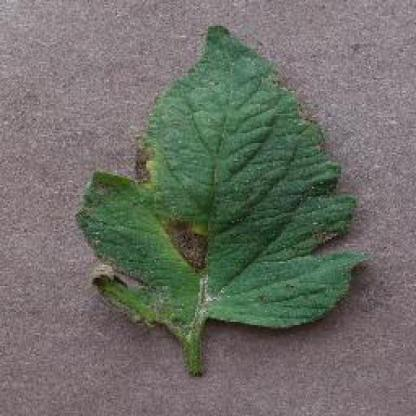Strawberry_Angular_LeafSpot: (156, 211, 211, 269)
